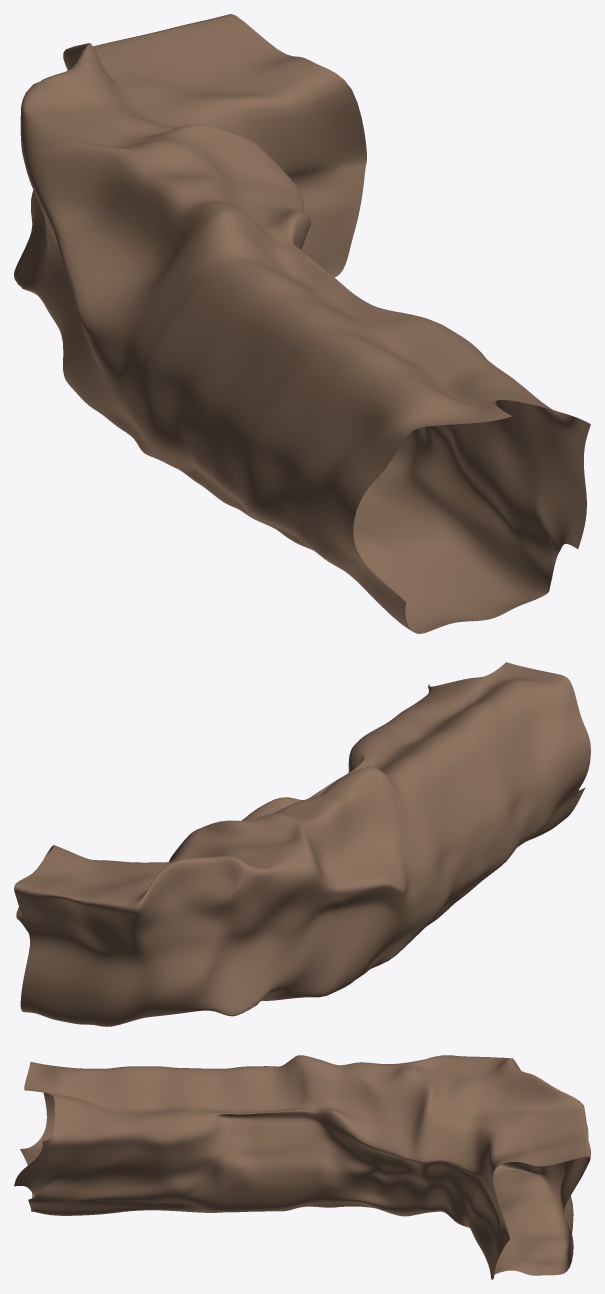
Rendered from Long_Tunnel_01.fbx.
3 views of the same model, one above another, from view 1: azimuth 30°, elevation 25°; view 2: azimuth 150°, elevation 25°; view 3: azimuth 270°, elevation 25° (orthographic). The views are drawn at different scales.
Visible parts, largest first — view 1: WALL_1; view 2: WALL_1; view 3: WALL_1.
Part boxes in pixels (x1,y1,x2,y2): WALL_1: (14, 14, 590, 633); WALL_1: (14, 662, 590, 1026); WALL_1: (14, 1055, 590, 1279).
Bounding box in the file's own units: 333 × 193 × 693.
